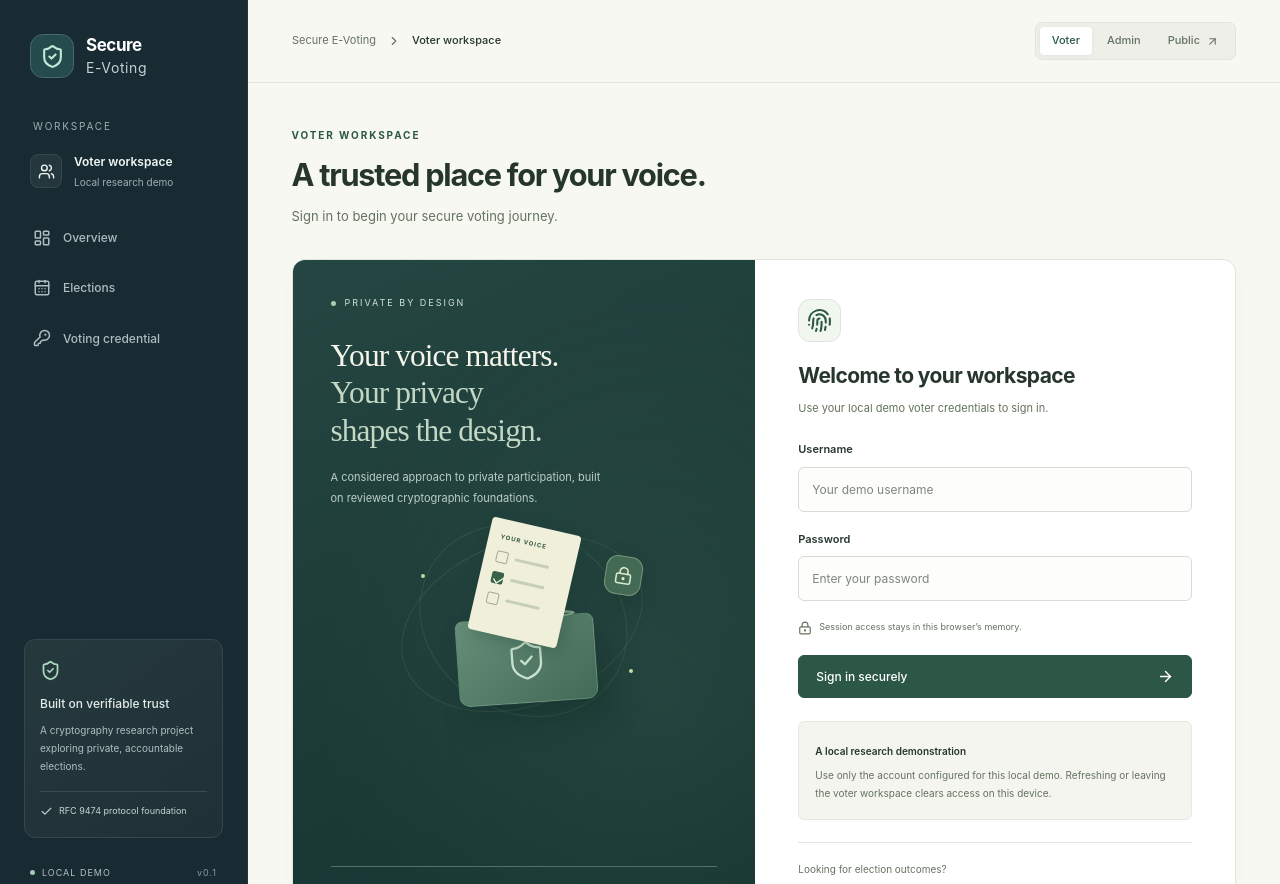
Test: voter access and state transitions › clears the form password immediately and displays safe login failure
Type "synthetic-voter" into the field labelled "Username" at (995, 489), box 798,467 -> 1192,512
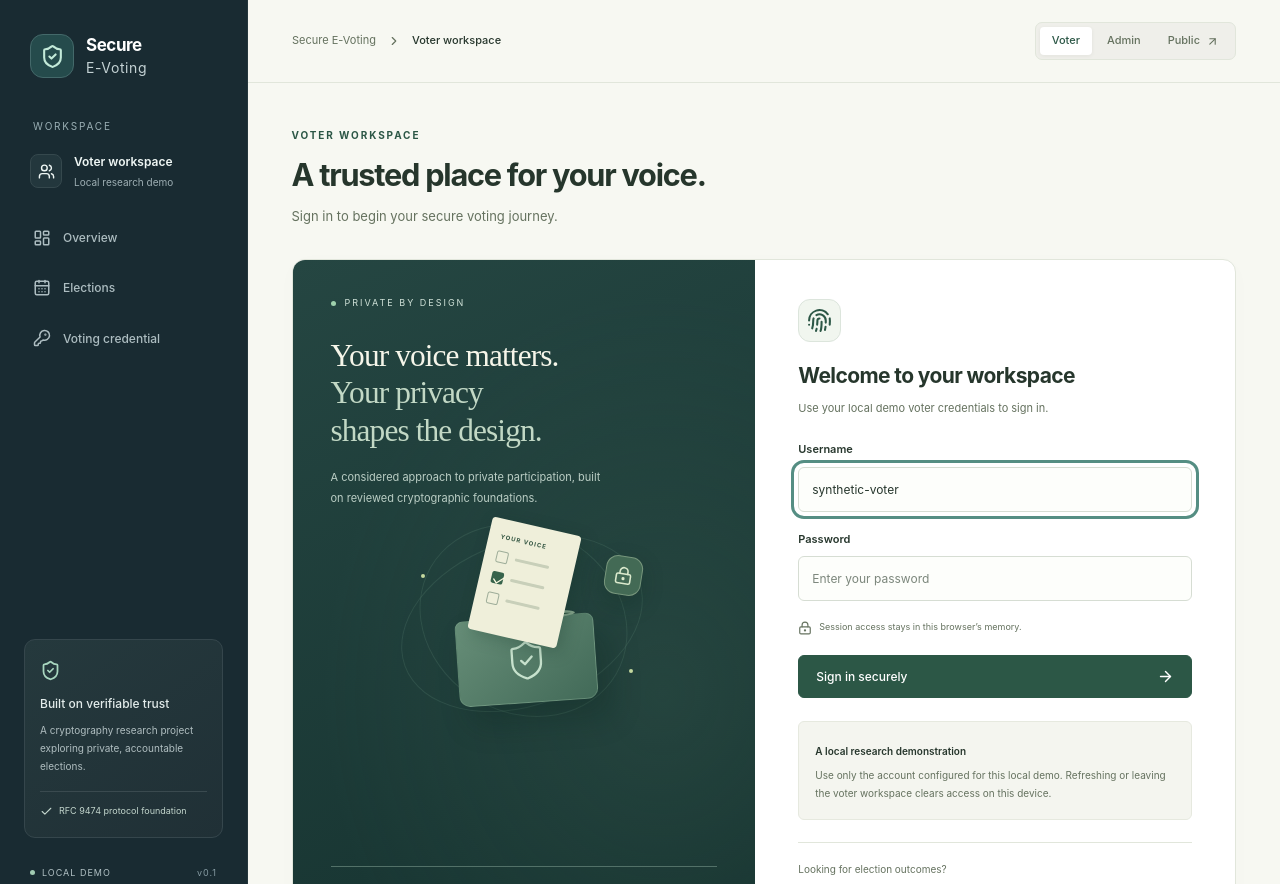
Type "synthetic-password" into the password field labelled "Password" at (995, 579), box 798,556 -> 1192,601
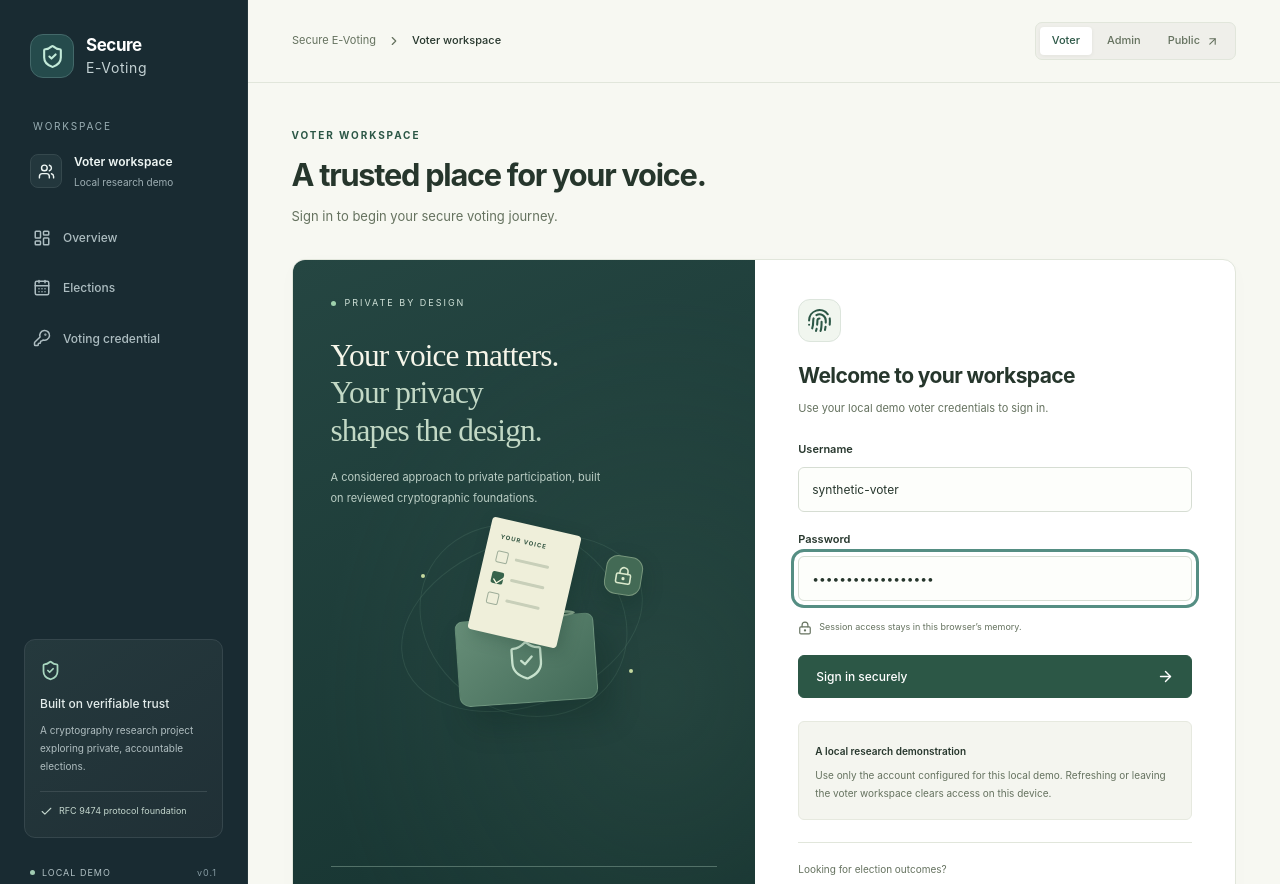
Click the button "Sign in securely" at (862, 676), box 798,655 -> 1192,698
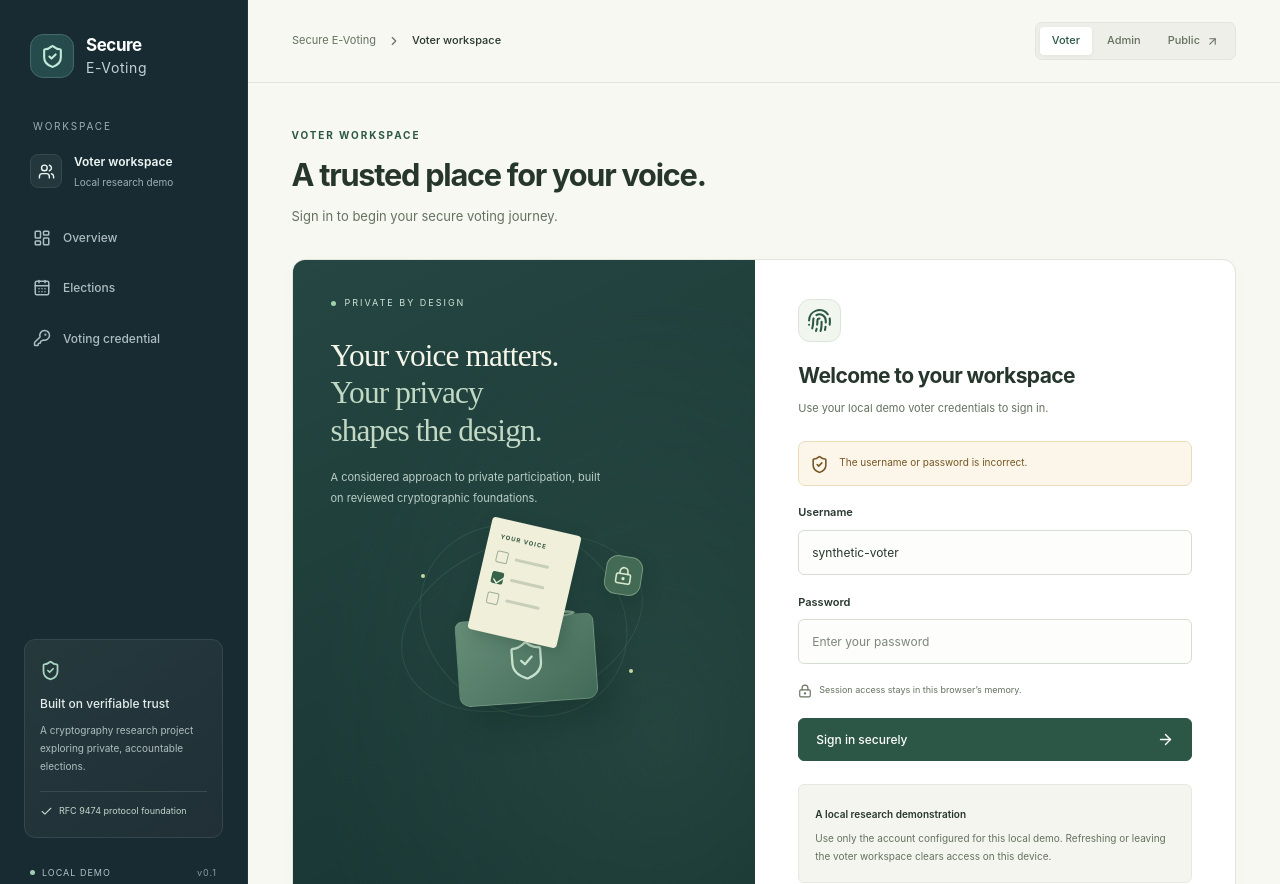
Expected: the text "The username or password is incorrect." is shown, 839,453 -> 1028,471
Expected: the password field labelled "Password" is empty, 798,619 -> 1192,664
